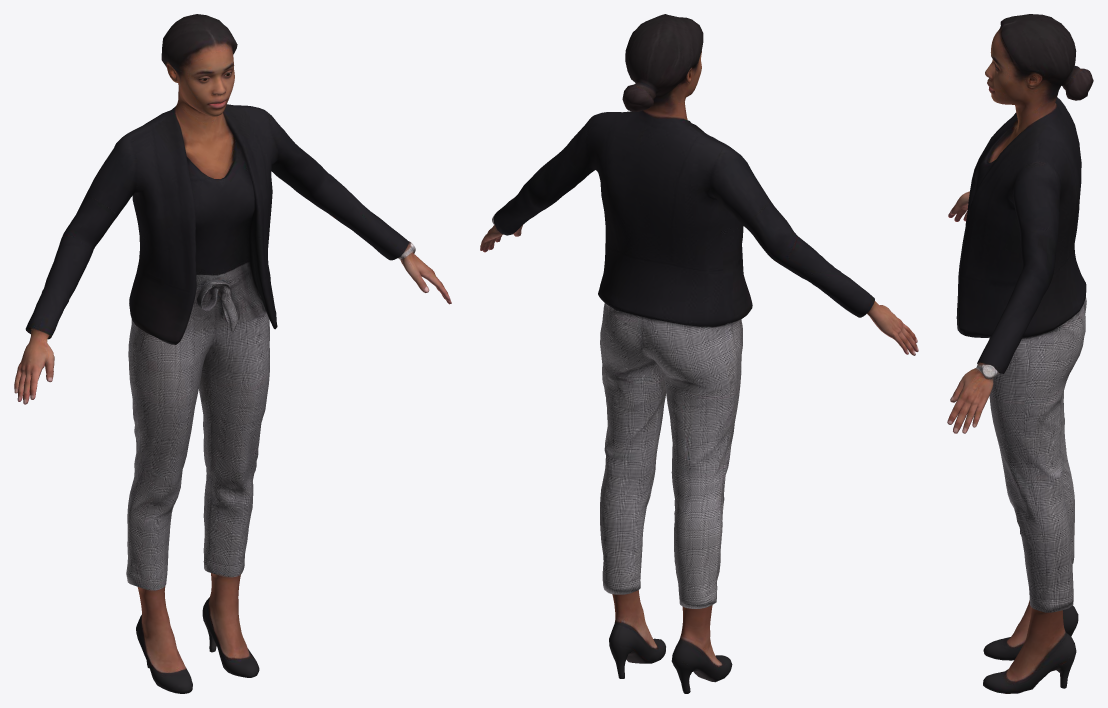
The model's file is insan_carla.glb.
3 renders of one model, left to right at view 1: azimuth 30°, elevation 25°; view 2: azimuth 150°, elevation 25°; view 3: azimuth 270°, elevation 25°, orthographic.
Visible parts, largest first — view 1: Object_6; view 2: Object_6; view 3: Object_6.
Part boxes in pixels (x1,y1,x2,y2): Object_6: (14, 14, 451, 693); Object_6: (480, 14, 918, 693); Object_6: (947, 14, 1093, 693).
Size of the model in its own units: 1.19 by 1.72 by 0.349.
1 material, 1 textured.
